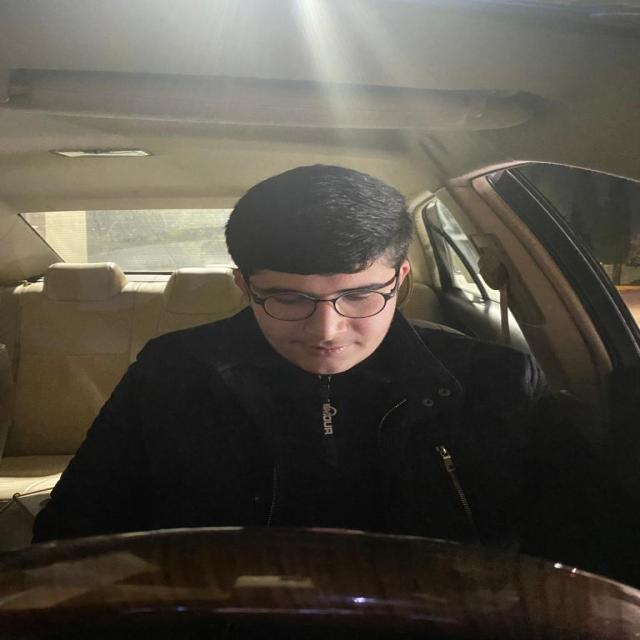drowsy: (221, 156, 425, 388)
